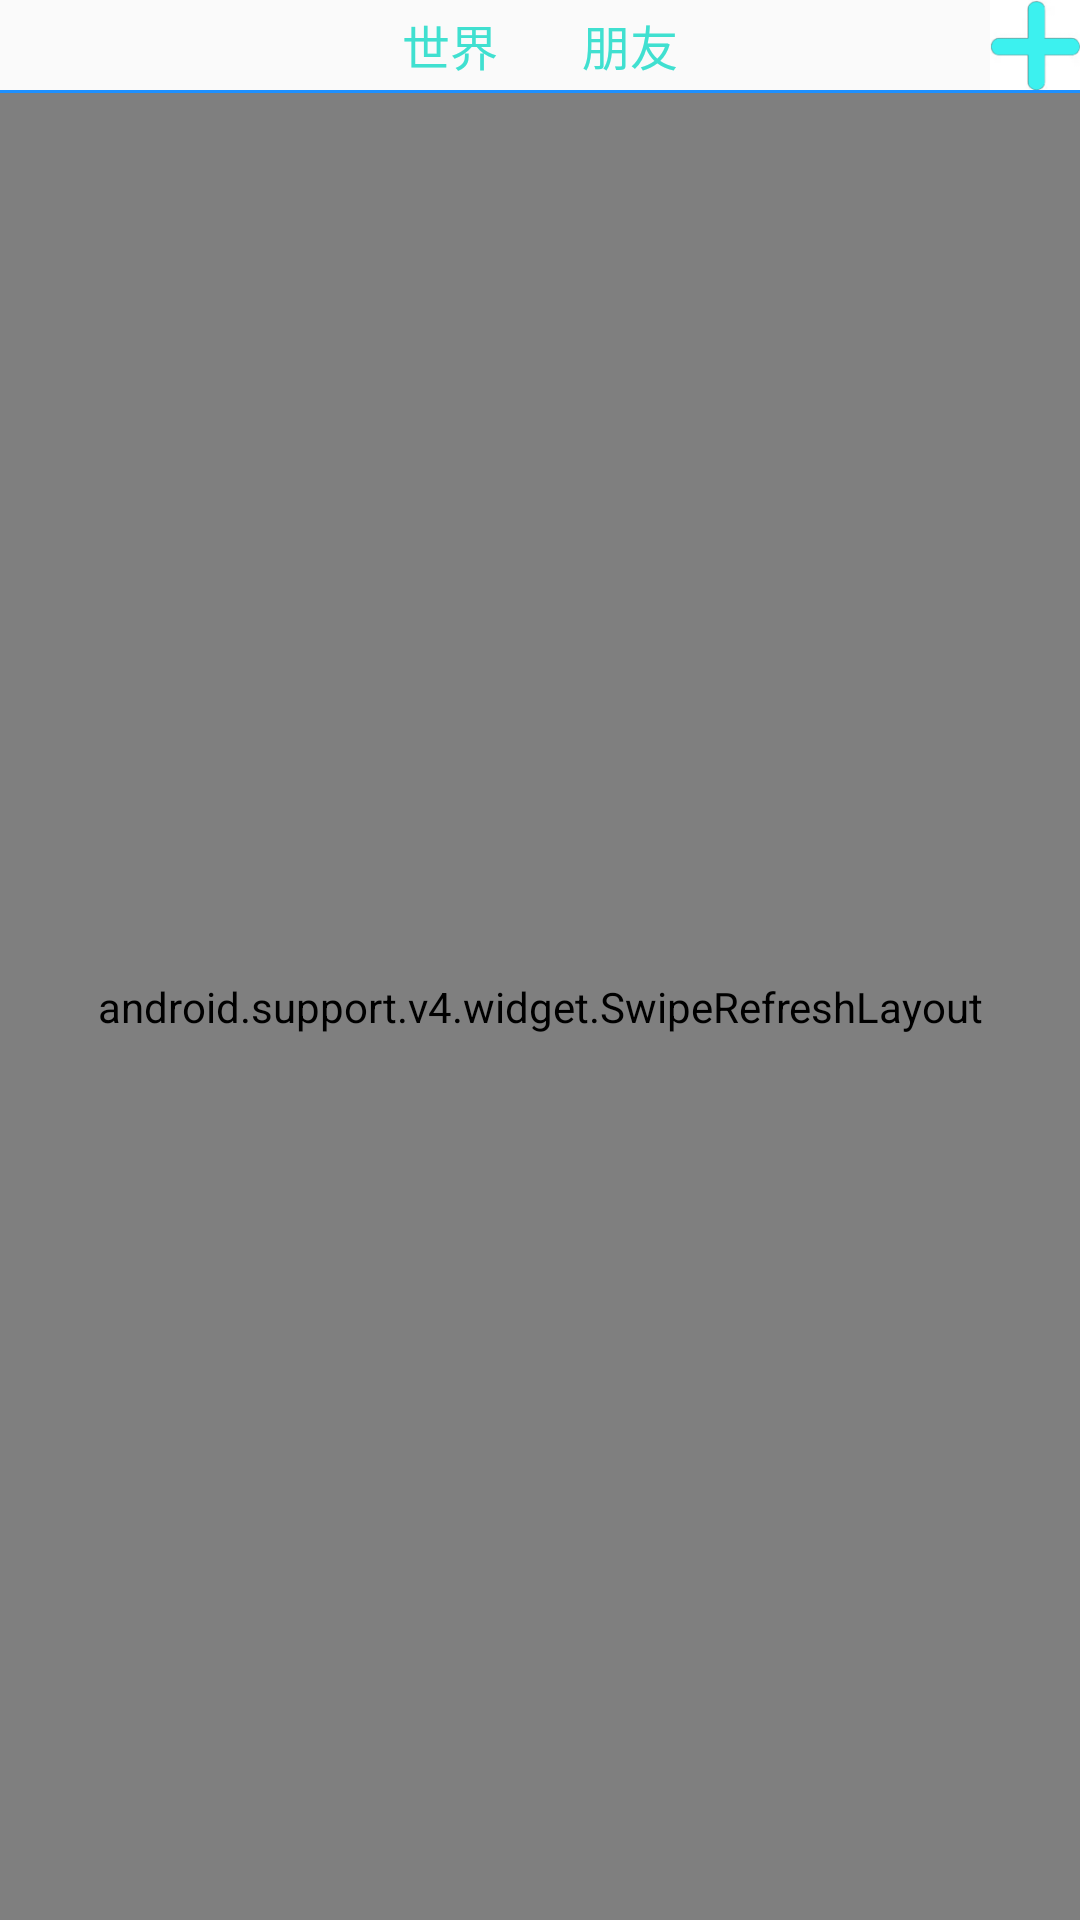

Named icons in this screenshot (1080px×1920px) and their bounding boxes, (x1, y1, x2, y2):
addmoment: (991, 1, 1080, 90)
